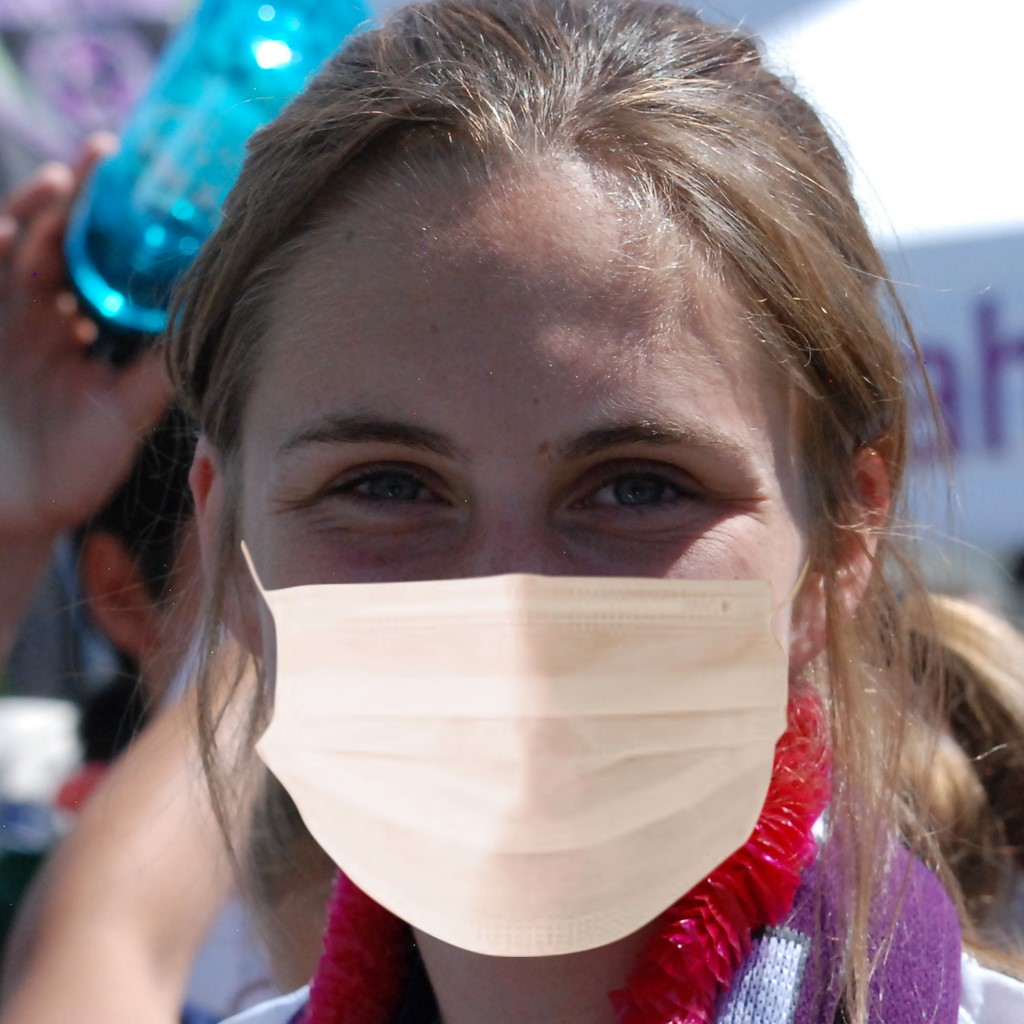con_mascara: (184, 105, 835, 944)
